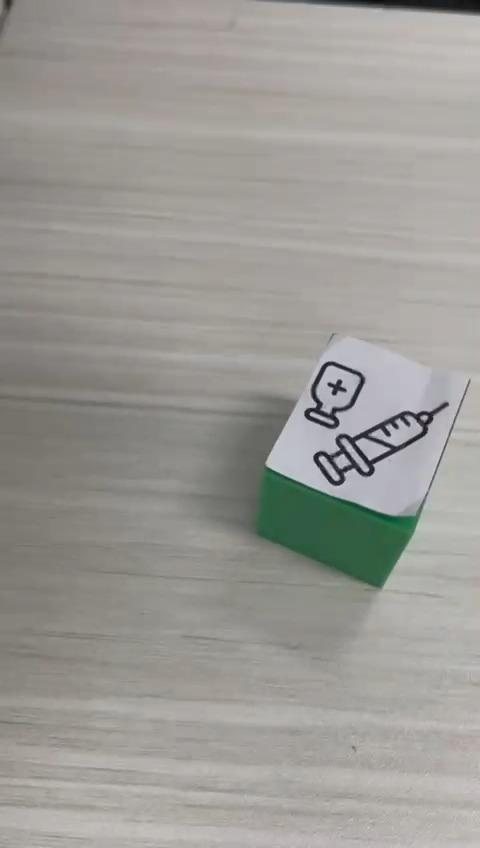antiseptic cream: (254, 330, 471, 589)
